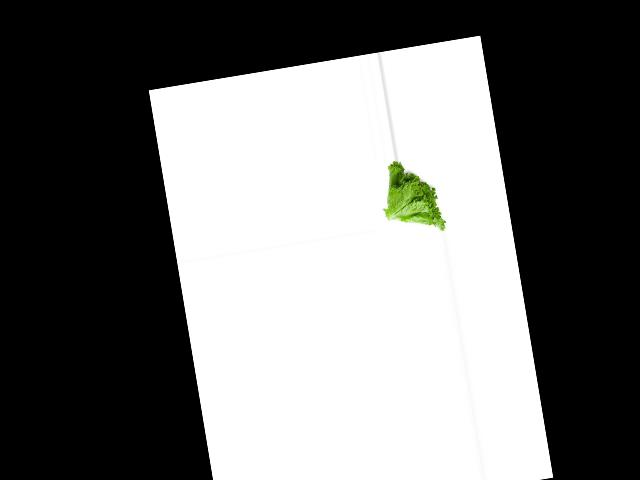lettuce: (377, 153, 448, 240)
